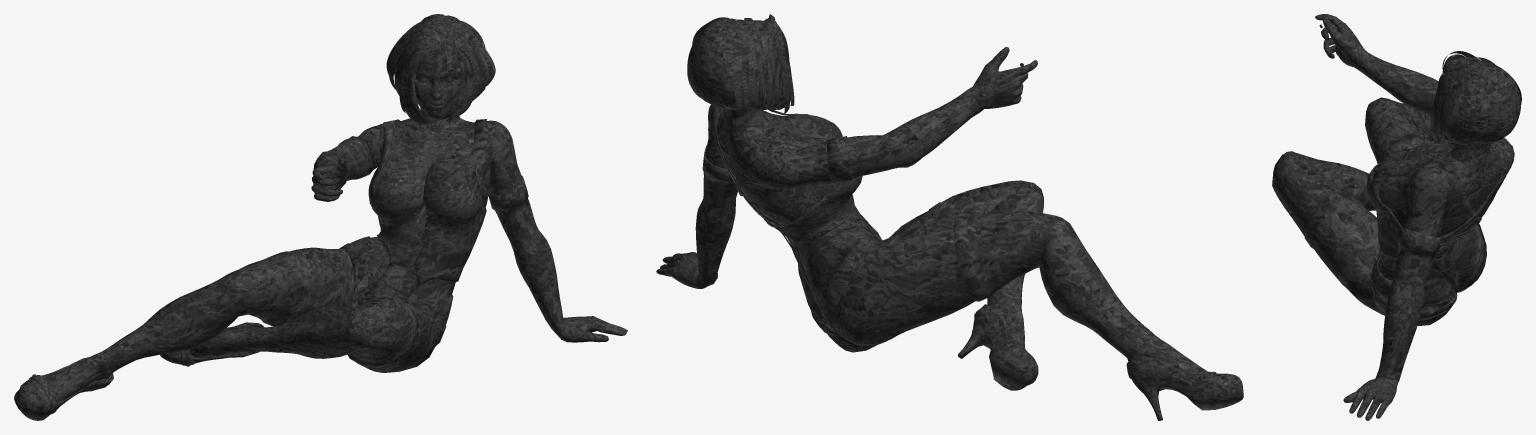
Rendered from Statue.fbx.
3 renders of one model, left to right at view 1: azimuth 30°, elevation 25°; view 2: azimuth 150°, elevation 25°; view 3: azimuth 270°, elevation 25°, orthographic. The views are drawn at different scales.
Parts seen in each view (by area): view 1: Group1; view 2: Group1; view 3: Group1.
Part boxes in pixels (<box>): Group1: <box>14,14,627,420</box>; Group1: <box>656,14,1243,420</box>; Group1: <box>1272,14,1521,420</box>.
Bounding box in the file's own units: 61.88 × 31.58 × 23.7.
